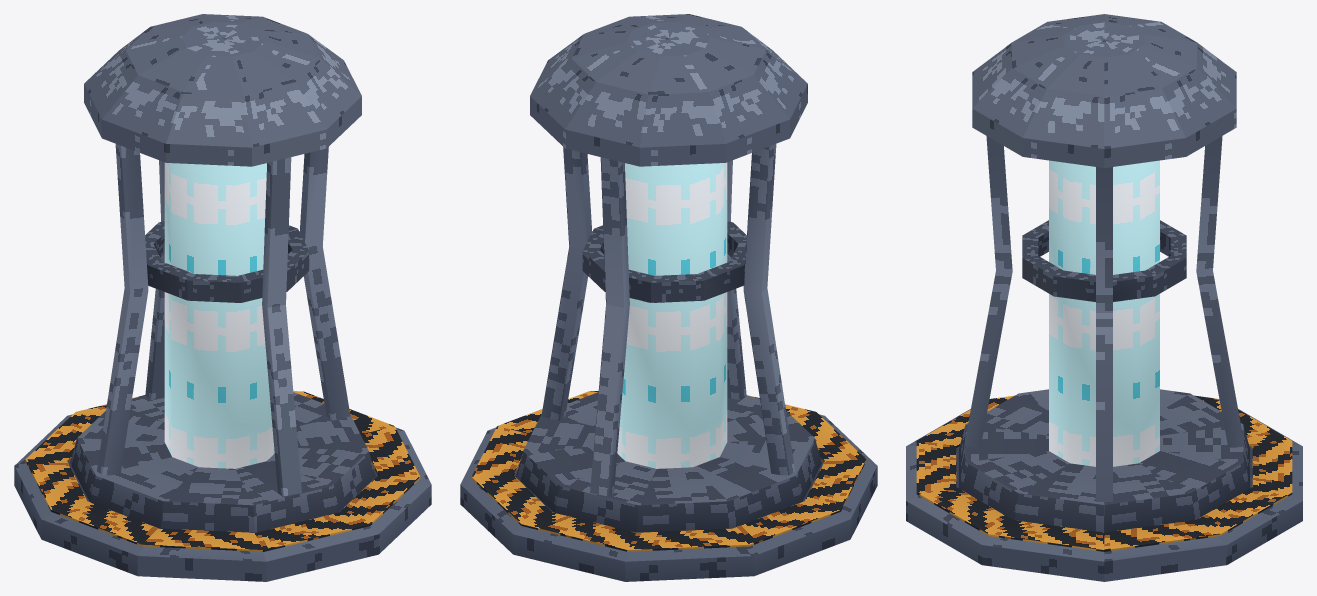
The model's file is tech.reactor.glb.
3 renders of one model, left to right at view 1: azimuth 30°, elevation 25°; view 2: azimuth 150°, elevation 25°; view 3: azimuth 270°, elevation 25°, orthographic.
Visible parts, largest first — view 1: kit_plinth, kit_cap, kit_core, kit_cage, kit_hazard, kit_coils; view 2: kit_plinth, kit_cap, kit_core, kit_cage, kit_hazard, kit_coils; view 3: kit_plinth, kit_cap, kit_core, kit_cage, kit_hazard, kit_coils.
Part boxes in pixels (left/top/right/bottom): kit_plinth: left=14, top=392, right=431, bottom=581; kit_cap: left=84, top=14, right=361, bottom=166; kit_core: left=164, top=162, right=274, bottom=468; kit_cage: left=97, top=144, right=350, bottom=496; kit_hazard: left=25, top=391, right=420, bottom=551; kit_coils: left=145, top=221, right=309, bottom=302; kit_plinth: left=460, top=392, right=877, bottom=581; kit_cap: left=530, top=14, right=807, bottom=166; kit_core: left=617, top=162, right=727, bottom=468; kit_cage: left=541, top=144, right=794, bottom=496; kit_hazard: left=471, top=391, right=866, bottom=551; kit_coils: left=582, top=221, right=746, bottom=302; kit_plinth: left=906, top=389, right=1302, bottom=581; kit_cap: left=972, top=14, right=1236, bottom=167; kit_core: left=1049, top=160, right=1159, bottom=466; kit_cage: left=964, top=136, right=1244, bottom=501; kit_hazard: left=916, top=395, right=1292, bottom=551; kit_coils: left=1022, top=220, right=1186, bottom=301.
Size of the model in its own units: 3 by 3.6 by 2.85.
6 materials, 6 textured.
